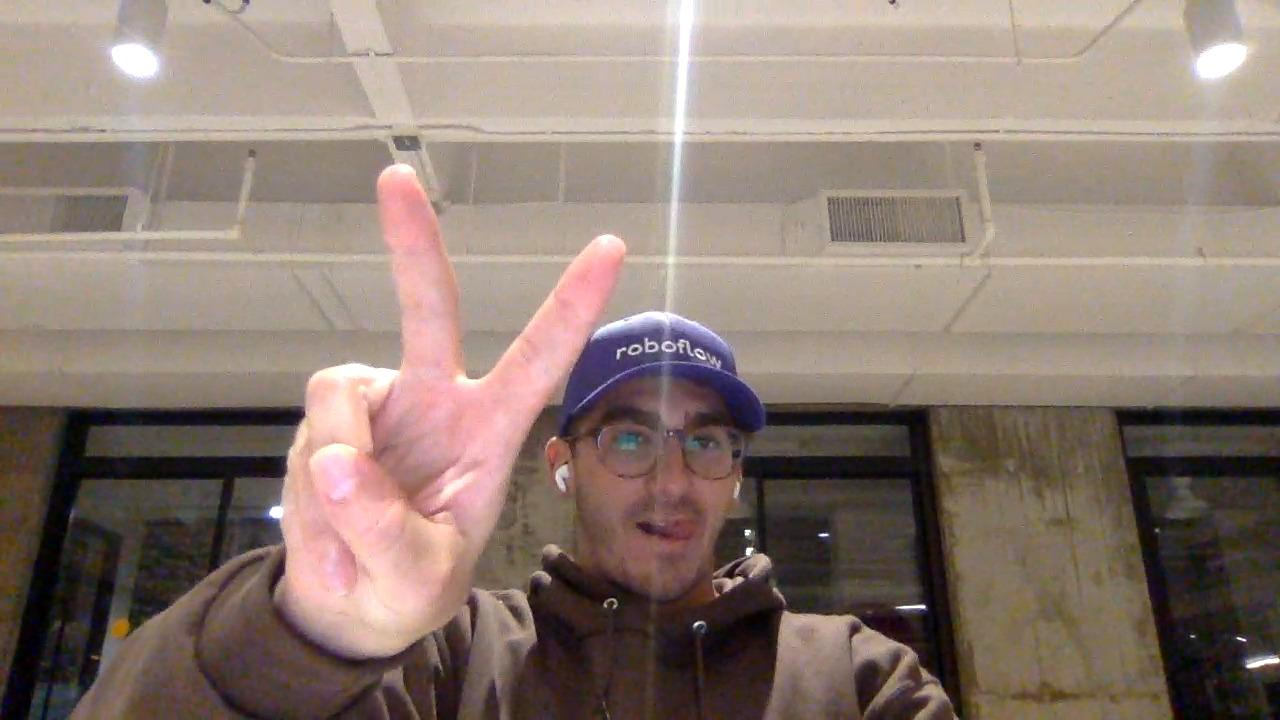face: (578, 384, 737, 599)
